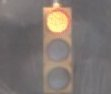Red: (37, 3, 75, 94)
